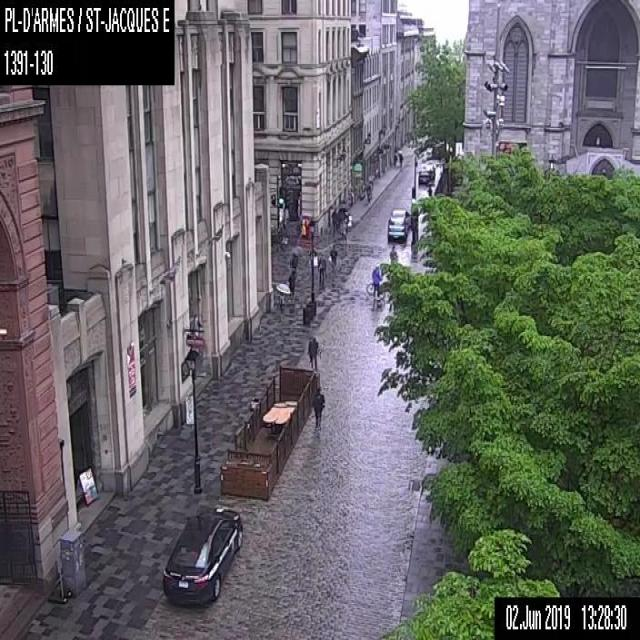pedestrian: (364, 264, 386, 299), (311, 385, 325, 429), (276, 280, 290, 315), (307, 334, 319, 370), (288, 245, 301, 274), (316, 250, 326, 286), (330, 203, 339, 236), (387, 242, 399, 262), (288, 268, 296, 297), (329, 242, 337, 270), (300, 215, 306, 236), (366, 183, 372, 202), (391, 150, 397, 166), (426, 184, 433, 196), (398, 151, 403, 167)
vehicle: (160, 502, 242, 606), (386, 216, 406, 241), (389, 208, 410, 230), (422, 163, 434, 180), (418, 167, 430, 184)
